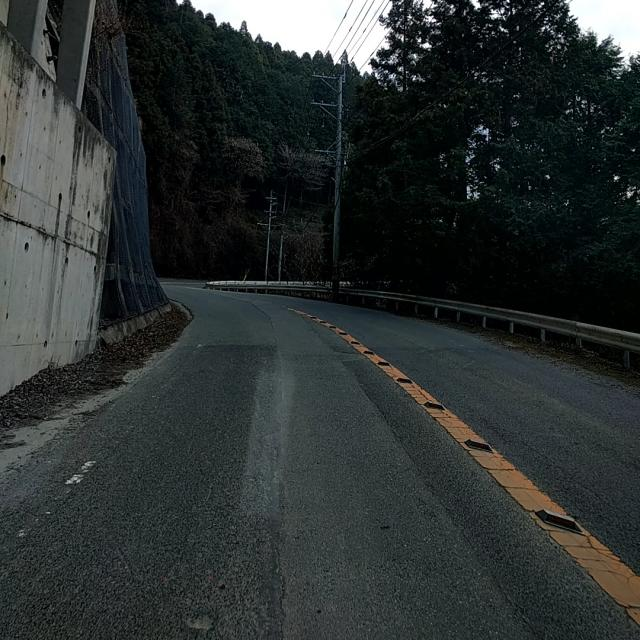pothole: (367, 338, 624, 604)
